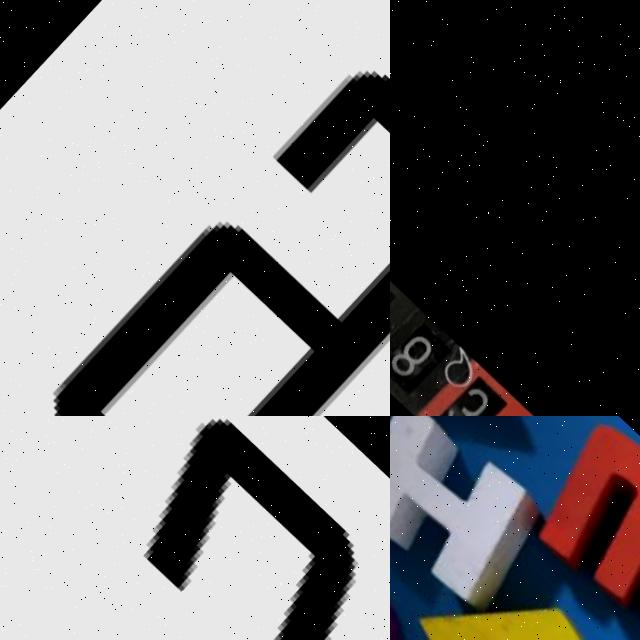3: (0, 416, 390, 640), (435, 370, 495, 416)
8: (390, 314, 441, 385)
9: (31, 25, 390, 416)
H: (390, 416, 565, 623)
L: (417, 536, 640, 640)
M: (390, 416, 567, 482)
W: (507, 416, 640, 640)
